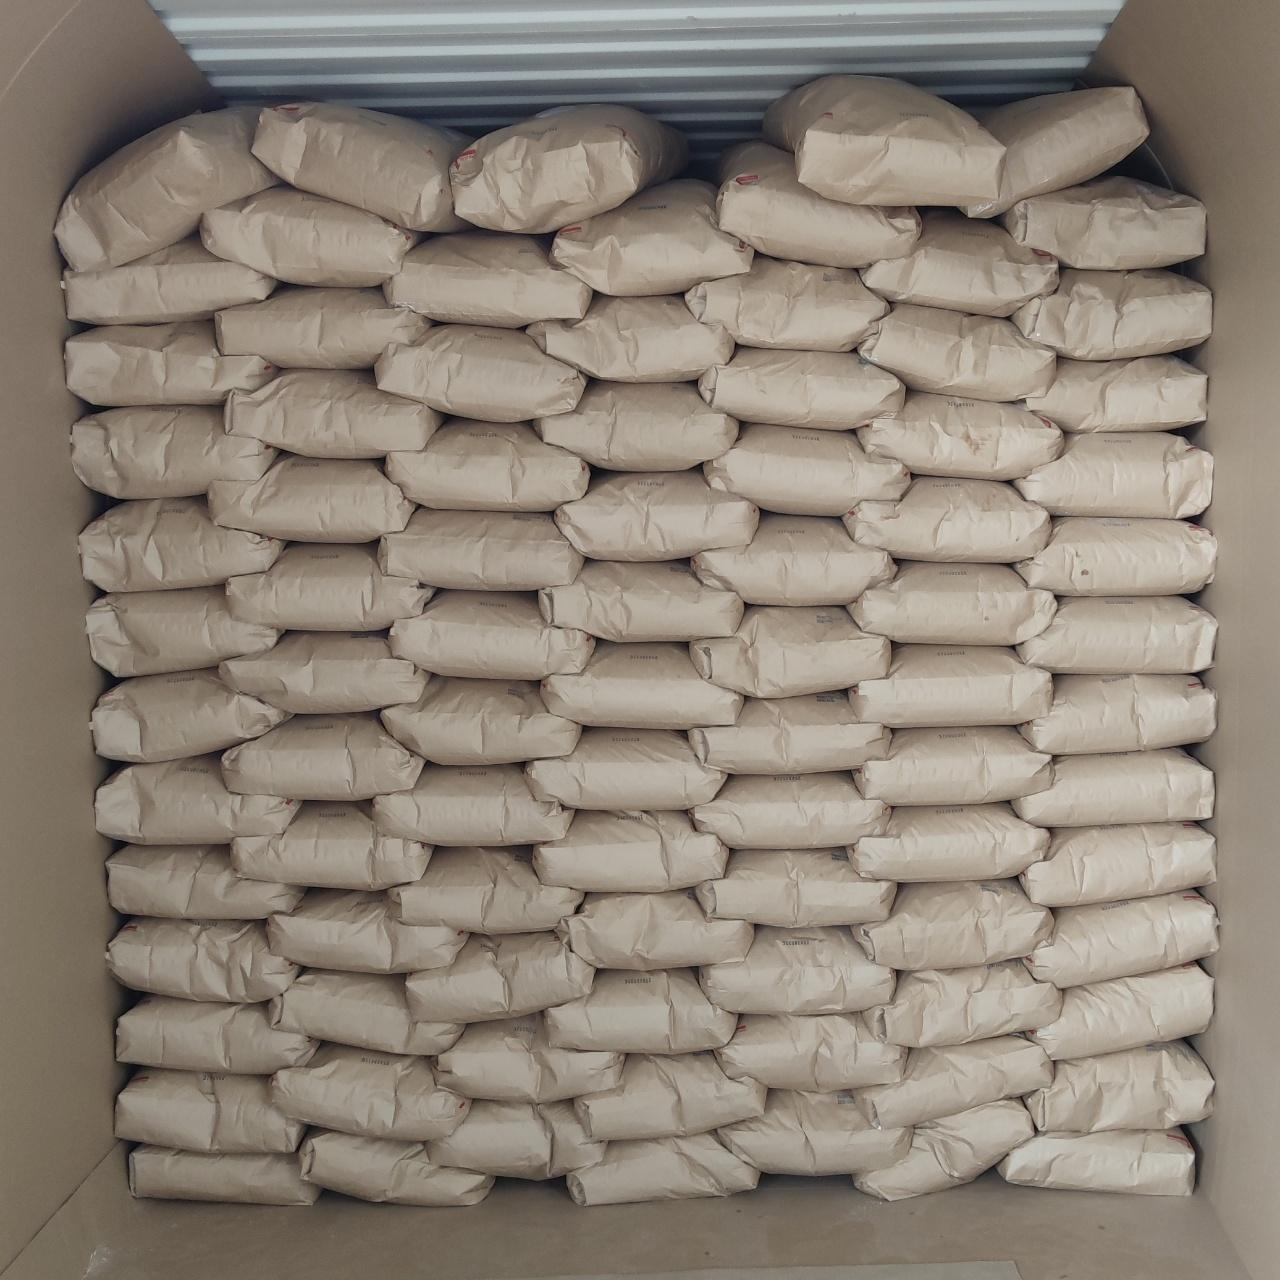sack: (54, 107, 282, 271), (764, 76, 1004, 208), (452, 106, 687, 233), (252, 102, 468, 231), (716, 142, 919, 268), (966, 86, 1148, 217), (553, 179, 753, 296), (201, 186, 422, 285), (861, 210, 1059, 316), (375, 325, 586, 421), (384, 231, 592, 328), (1000, 174, 1206, 270), (857, 303, 1054, 401), (80, 498, 285, 592), (224, 370, 444, 457), (384, 418, 589, 511), (703, 423, 910, 515), (270, 1044, 468, 1140), (686, 255, 888, 349), (1023, 891, 1218, 988), (65, 316, 275, 406), (71, 407, 276, 499), (62, 236, 276, 324), (90, 669, 291, 762), (96, 753, 300, 844), (691, 514, 895, 605), (1011, 268, 1212, 360), (691, 606, 891, 698), (857, 391, 1063, 480), (854, 1035, 1053, 1127), (536, 380, 737, 471), (556, 470, 759, 560), (852, 878, 1052, 969), (388, 591, 594, 679), (208, 454, 415, 541), (527, 295, 734, 382), (86, 586, 283, 677), (854, 1100, 1033, 1200), (225, 544, 433, 630), (540, 641, 743, 729), (698, 344, 905, 430), (222, 713, 424, 801), (381, 676, 581, 764), (216, 286, 433, 367), (1032, 963, 1213, 1060), (847, 561, 1056, 645), (844, 477, 1050, 562), (1011, 432, 1212, 519), (231, 802, 431, 889), (862, 960, 1060, 1047), (1024, 1041, 1213, 1132), (378, 508, 584, 590), (849, 644, 1052, 727), (220, 632, 428, 713), (267, 889, 467, 973), (390, 847, 583, 934), (700, 927, 895, 1013), (408, 932, 594, 1021), (540, 561, 744, 642), (526, 728, 725, 811), (372, 764, 573, 846), (438, 1015, 624, 1103), (107, 917, 299, 1002), (720, 1090, 912, 1175), (689, 693, 890, 774), (271, 969, 462, 1054), (544, 969, 736, 1053), (1011, 748, 1214, 827), (1020, 824, 1215, 906), (579, 1053, 766, 1138), (848, 803, 1049, 882), (116, 1069, 305, 1152), (117, 996, 318, 1074), (534, 811, 727, 892), (1020, 675, 1216, 754), (1016, 518, 1217, 595), (854, 727, 1052, 805), (696, 850, 896, 927), (1017, 597, 1217, 674), (560, 891, 753, 970), (718, 1012, 907, 1092), (690, 772, 888, 848), (106, 845, 303, 919), (1024, 354, 1207, 433), (427, 1100, 607, 1179), (566, 1132, 760, 1205), (301, 1132, 492, 1206), (998, 1128, 1194, 1195), (129, 1145, 321, 1204)
